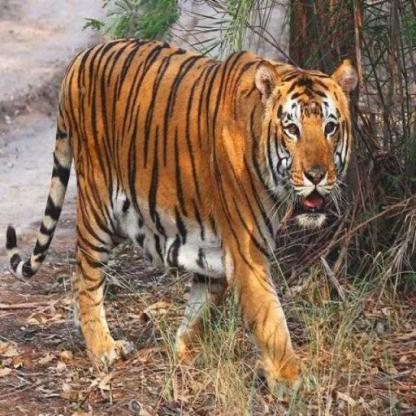Tiger: (5, 34, 377, 398)
